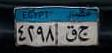2: (28, 25, 35, 43)
4: (18, 24, 26, 41)
8: (45, 26, 54, 43)
9: (37, 26, 44, 42)
jeem: (77, 25, 90, 40)
qaaf: (65, 26, 76, 43)
